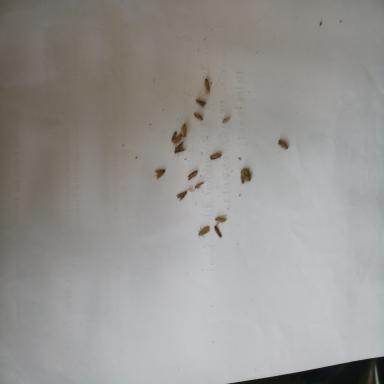pbw: (197, 225, 210, 237), (214, 213, 227, 224), (174, 141, 185, 153), (153, 168, 165, 179), (176, 189, 187, 200), (187, 170, 198, 180), (214, 225, 222, 238), (173, 134, 182, 144), (278, 140, 287, 150), (210, 152, 221, 160), (180, 123, 186, 137), (204, 78, 210, 92), (194, 111, 203, 120), (194, 180, 204, 188), (196, 99, 206, 106), (171, 131, 177, 141), (222, 116, 230, 123)
